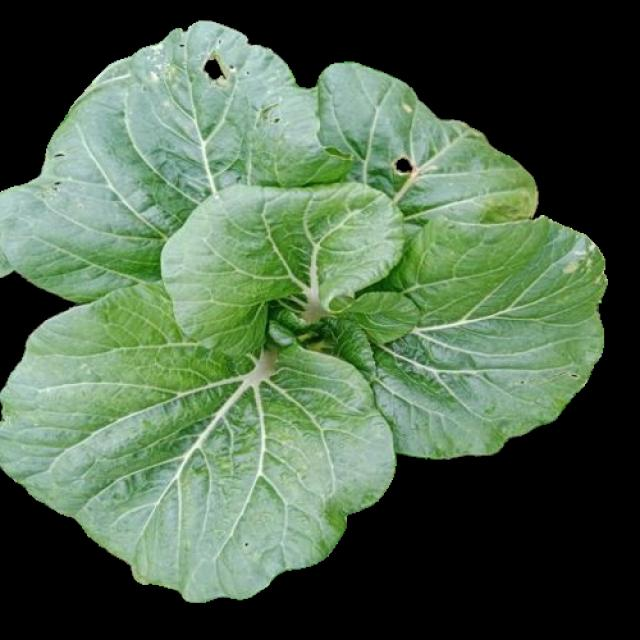mature: (1, 23, 604, 604)
unhealthy: (4, 29, 315, 298), (365, 221, 604, 457), (318, 68, 540, 220)
